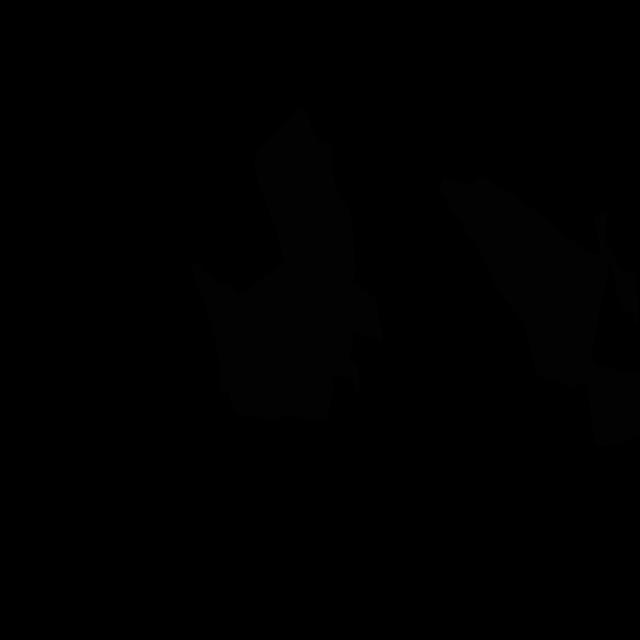cardboard: (439, 176, 610, 388), (192, 261, 383, 420), (254, 106, 356, 324), (594, 211, 639, 324), (583, 358, 640, 447)
